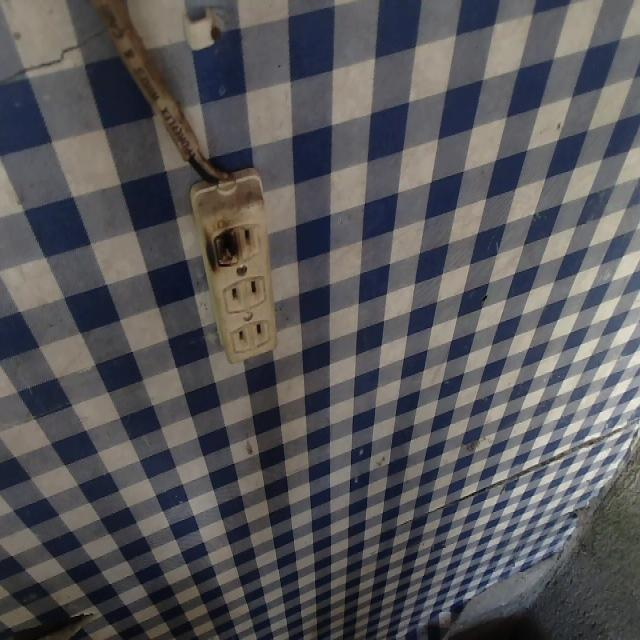-: (202, 220, 246, 269)
